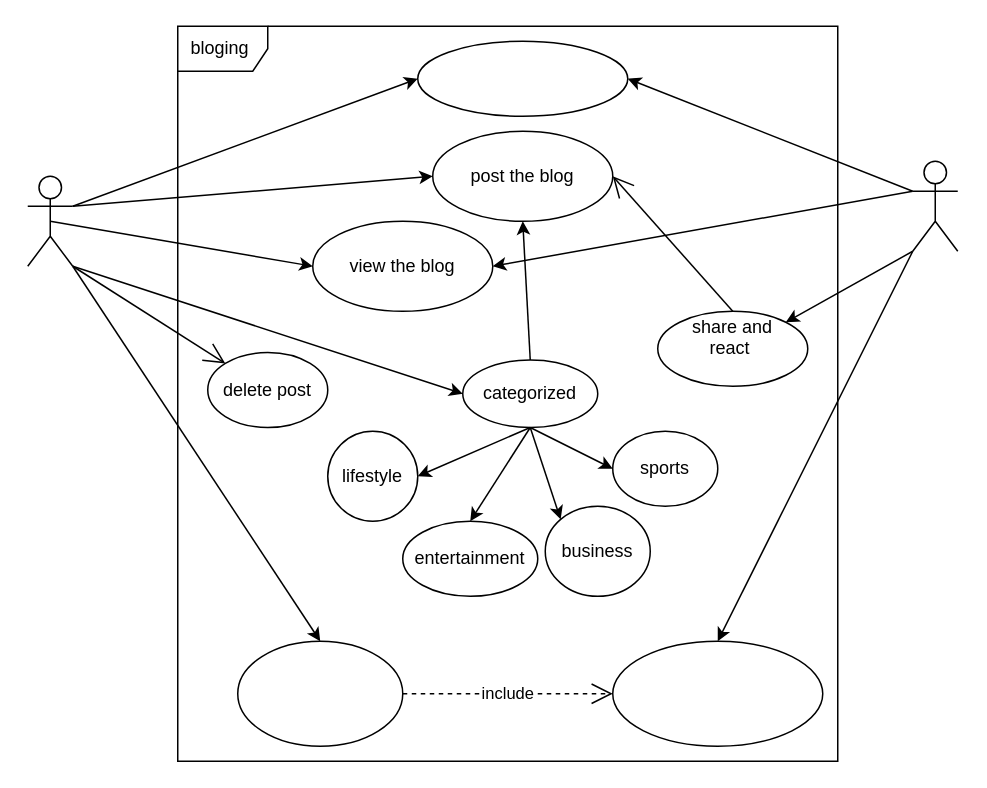
The diagram is 987 pixels wide and 788 high, and some of its shapes have lost their labels. Here are the shapes that lost their labels. From the top down, the box of each, then its label:
(416, 40, 628, 116): login
(26, 175, 73, 266): writter
(911, 160, 958, 251): viewer
(236, 640, 403, 746): reply to comment
(611, 640, 823, 746): comment
